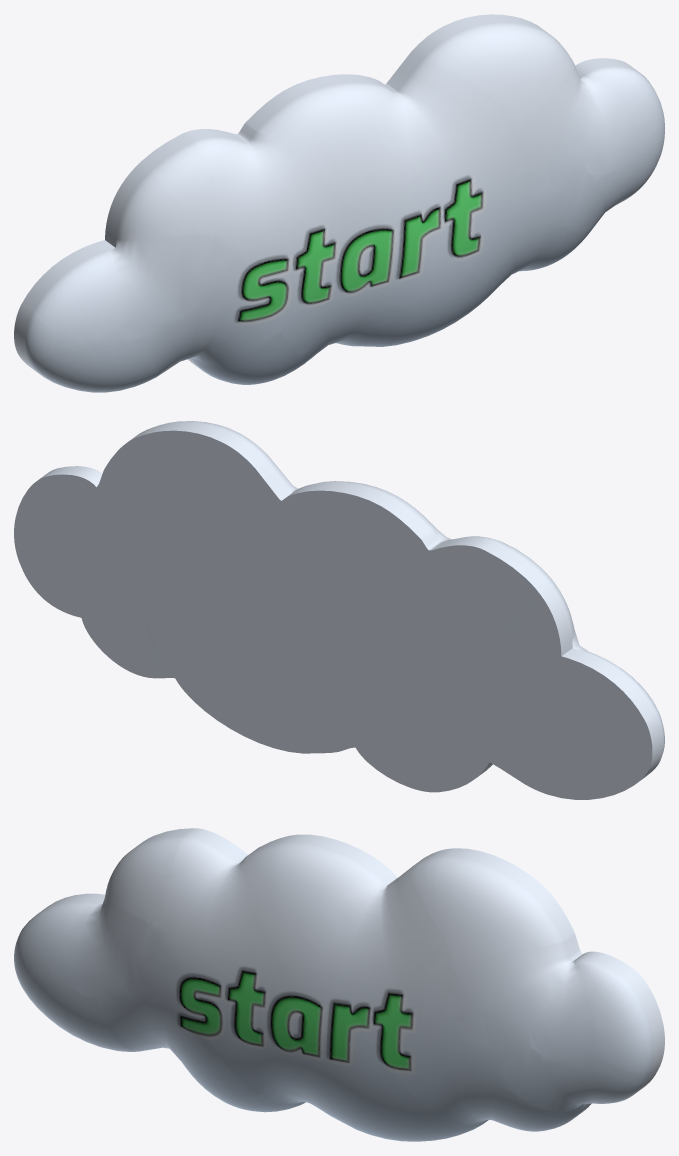
The model's file is cloud_start.obj.
3 views of the same model, one above another, from view 1: azimuth 30°, elevation 25°; view 2: azimuth 150°, elevation 25°; view 3: azimuth 330°, elevation 25° (orthographic).
Visible parts, largest first — view 1: cloud2_flat; view 2: cloud2_flat; view 3: cloud2_flat.
Boxes of the visible parts, x1,y1,x2,y2 form: cloud2_flat: (14, 14, 664, 392); cloud2_flat: (14, 421, 664, 799); cloud2_flat: (14, 828, 664, 1141).
Size of the model in its own units: 19.47 by 8.83 by 2.24.
